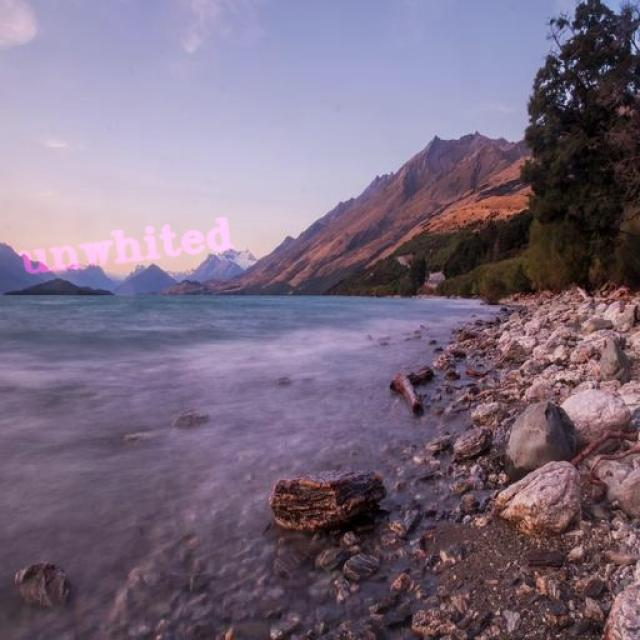watermark: (10, 215, 236, 280)
